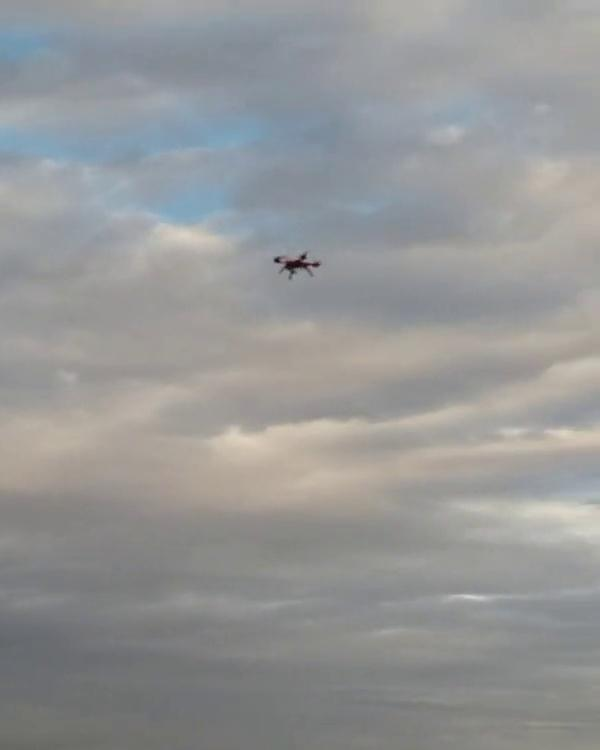drone: (269, 248, 323, 281)
